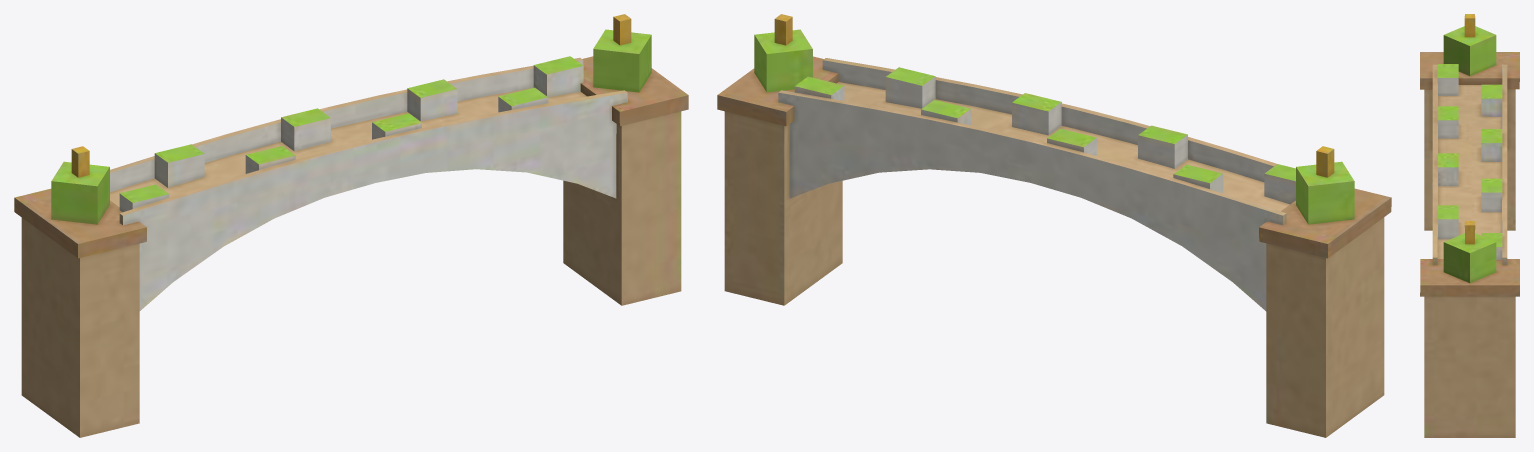
The model's file is skyline-bridge.glb.
3 renders of one model, left to right at view 1: azimuth 30°, elevation 25°; view 2: azimuth 150°, elevation 25°; view 3: azimuth 270°, elevation 25°, orthographic. The views are drawn at different scales.
Parts seen in each view (by area): view 1: skyline-bridge; view 2: skyline-bridge; view 3: skyline-bridge.
Part boxes in pixels (left/top/right/bottom): skyline-bridge: left=14, top=14, right=688, bottom=437; skyline-bridge: left=717, top=14, right=1391, bottom=437; skyline-bridge: left=1420, top=14, right=1519, bottom=437.
Size of the model in its own units: 26.6 by 10.8 by 4.81.
5 materials, 5 textured.
